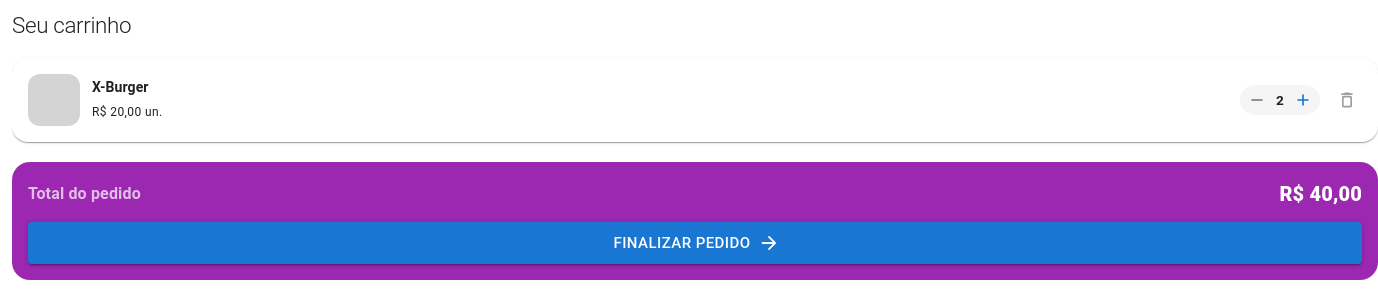
Test: CartPage › aumentar a quantidade atualiza o total
The image size is (1378, 297).
Click the button named "Aumentar quantidade de X-Burger": [1303, 100] box [1288,85,1318,115]
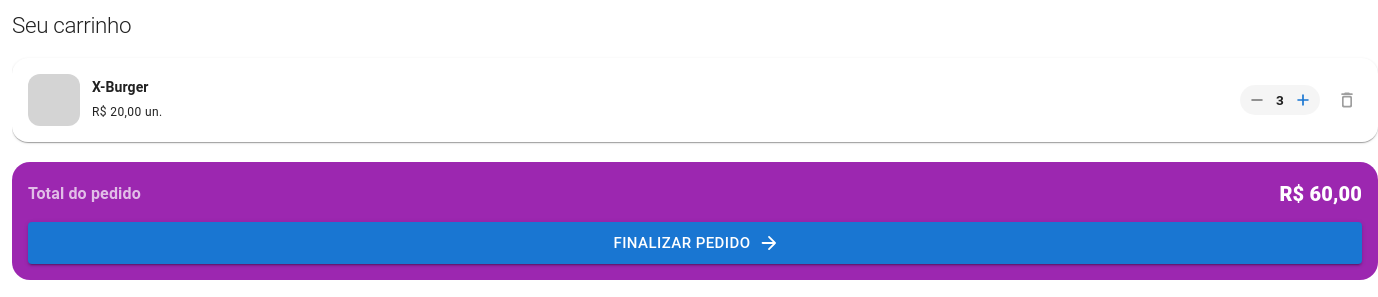
Expected: the heading "R$ 60,00" is shown, [1279,178,1362,210]
